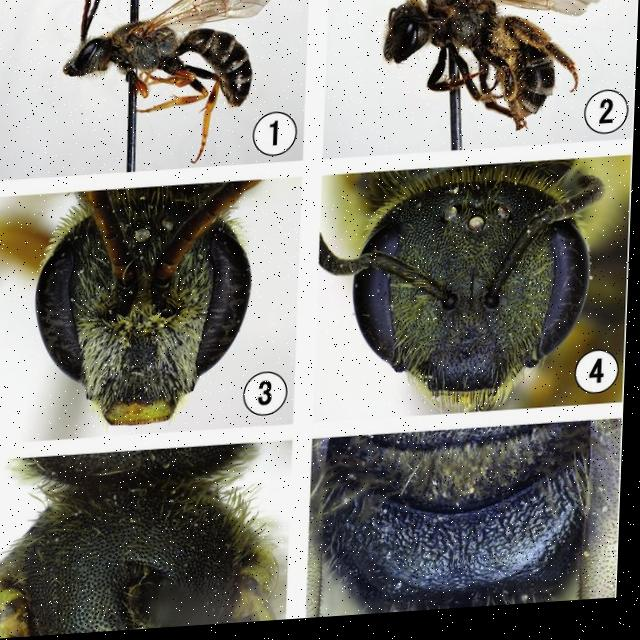Seladonia: (348, 0, 592, 147), (50, 0, 280, 141)
